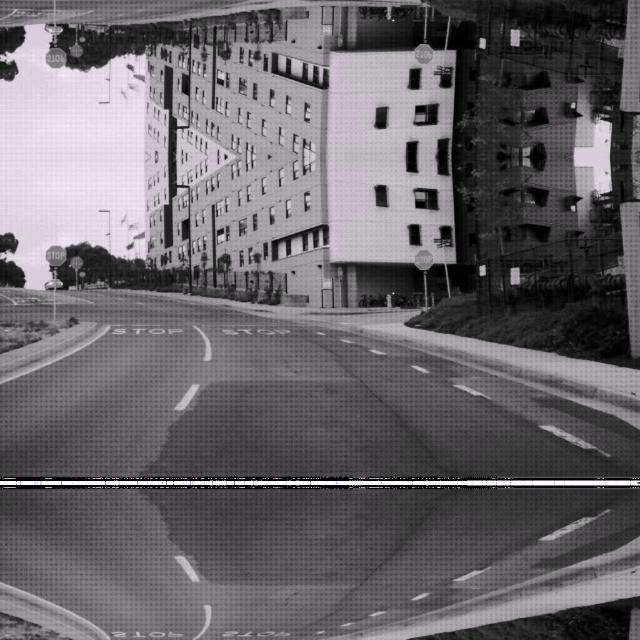stop: (44, 243, 66, 264), (44, 48, 66, 68), (413, 248, 432, 268), (413, 44, 432, 64)
